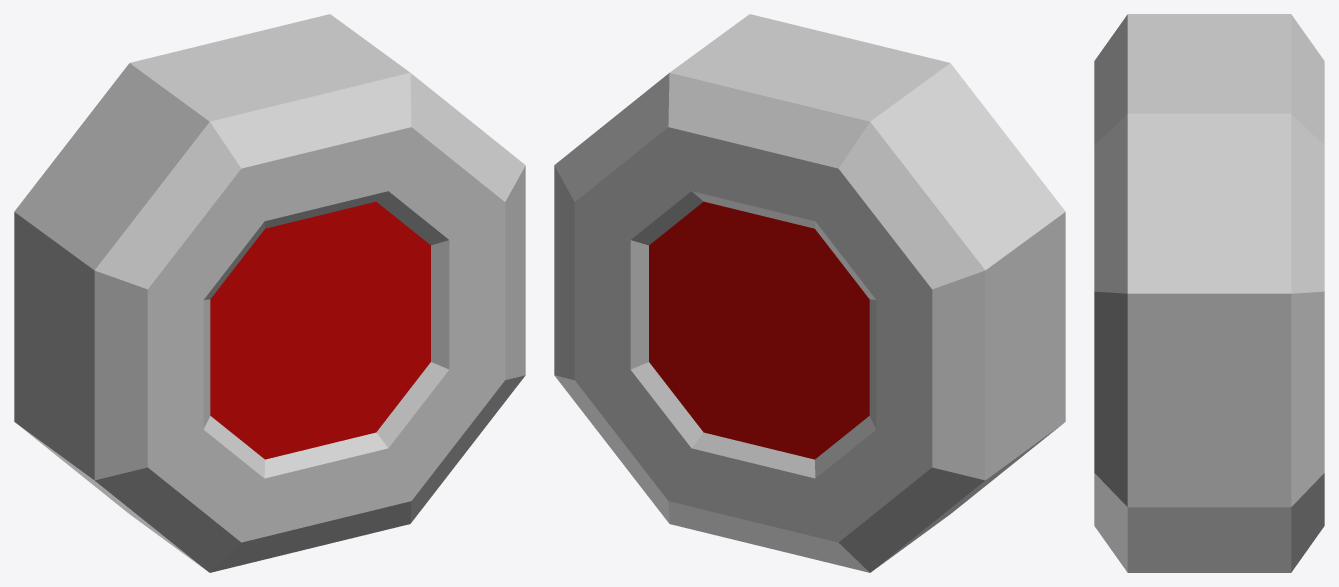
3 views of the same model, side by side, from view 1: azimuth 30°, elevation 25°; view 2: azimuth 150°, elevation 25°; view 3: azimuth 270°, elevation 25° (orthographic).
Parts seen in each view (by area): view 1: Cube; view 2: Cube; view 3: Cube.
Boxes of the visible parts, x1,y1,x2,y2 form: Cube: (14,14,525,572); Cube: (554,14,1065,572); Cube: (1094,14,1324,572).
Bounding box in the file's own units: 200 × 200 × 90.78.
